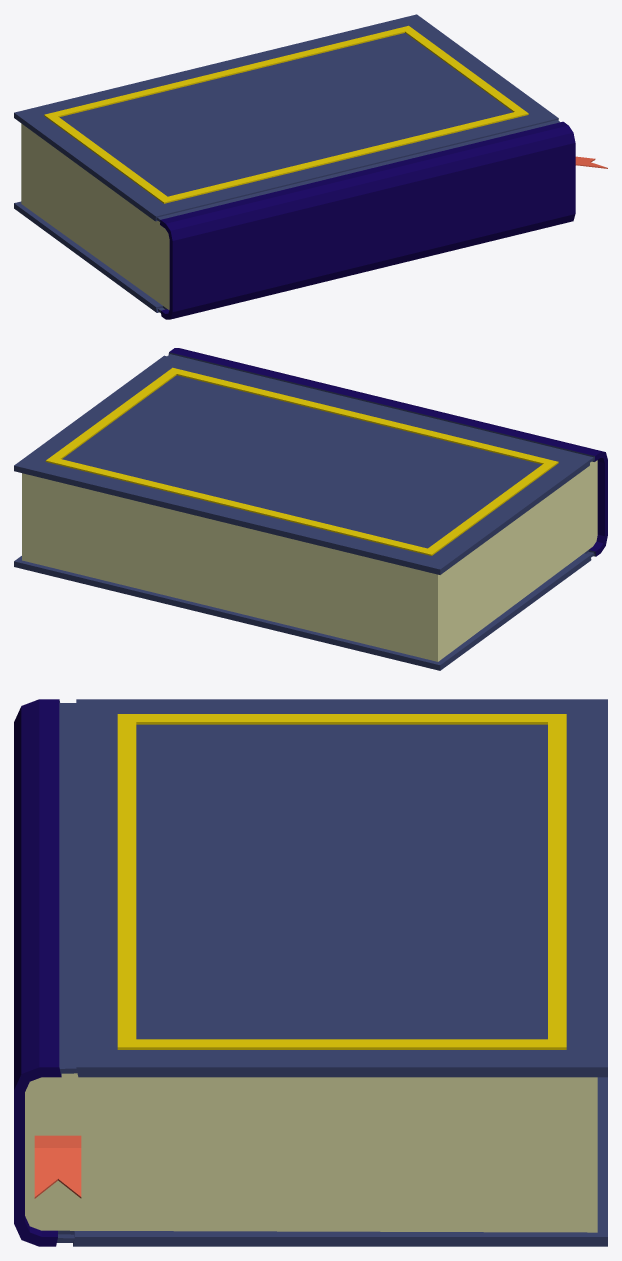
File: Dictionary.fbx
The picture shows the model from 3 angles, top to bottom: view 1: azimuth 30°, elevation 25°; view 2: azimuth 150°, elevation 25°; view 3: azimuth 270°, elevation 25°; orthographic projection. The views are drawn at different scales.
Visible parts, largest first — view 1: Dictionary; view 2: Dictionary; view 3: Dictionary.
Part boxes in pixels (<box>): Dictionary: <box>14,14,607,319</box>; Dictionary: <box>14,348,607,670</box>; Dictionary: <box>14,699,607,1246</box>.
Size of the model in its own units: 24.08 by 5.07 by 15.
